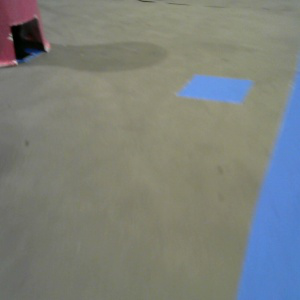middle: (1, 1, 50, 68)
